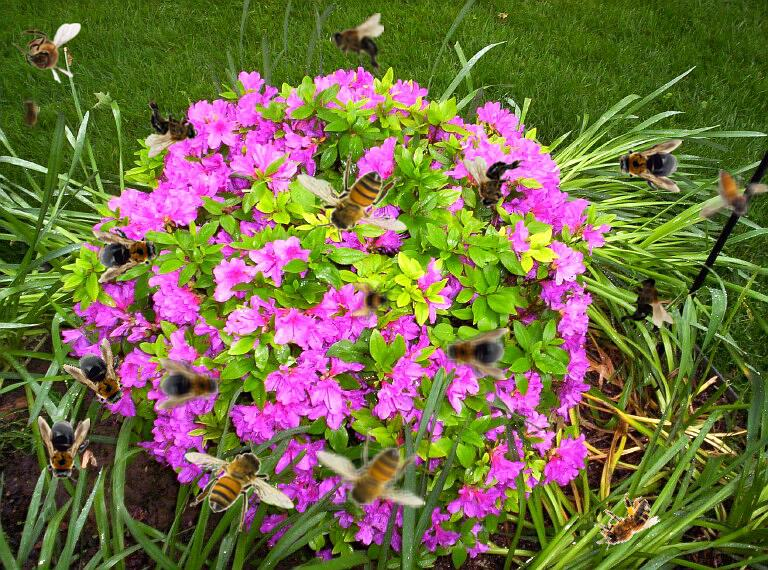Bee: (315, 427, 426, 521), (184, 438, 295, 532), (296, 151, 407, 245), (61, 335, 145, 421), (583, 484, 663, 563), (90, 221, 166, 283), (11, 23, 81, 84), (614, 140, 682, 192), (441, 328, 509, 380), (156, 358, 224, 410), (38, 416, 90, 484), (699, 169, 768, 219), (613, 275, 675, 328), (331, 13, 384, 75), (145, 96, 198, 158), (463, 156, 525, 209), (350, 280, 394, 324), (19, 94, 41, 134)
